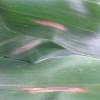Corn leaf blight: (0, 57, 99, 99), (1, 0, 99, 39)
